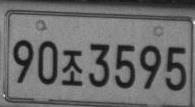0: (37, 39, 58, 85)
3: (87, 43, 110, 87)
5: (113, 44, 136, 89), (165, 46, 187, 91)
9: (12, 38, 34, 83), (139, 44, 161, 89)
조: (61, 49, 82, 86)
